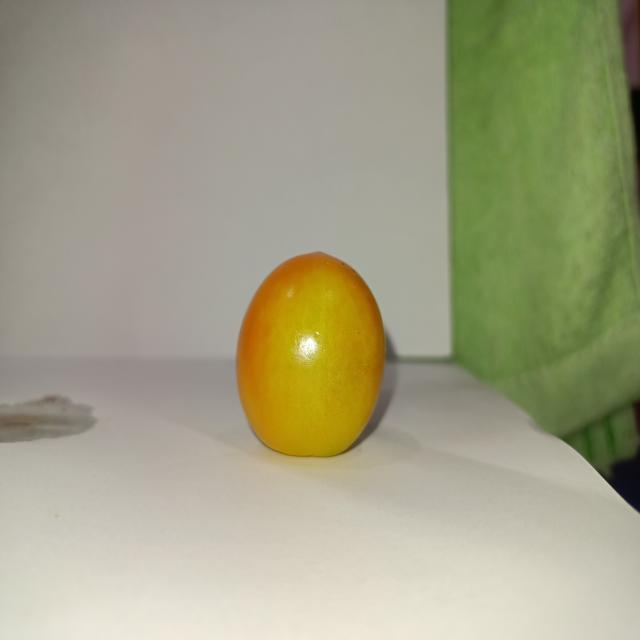Green: (234, 250, 387, 457)
